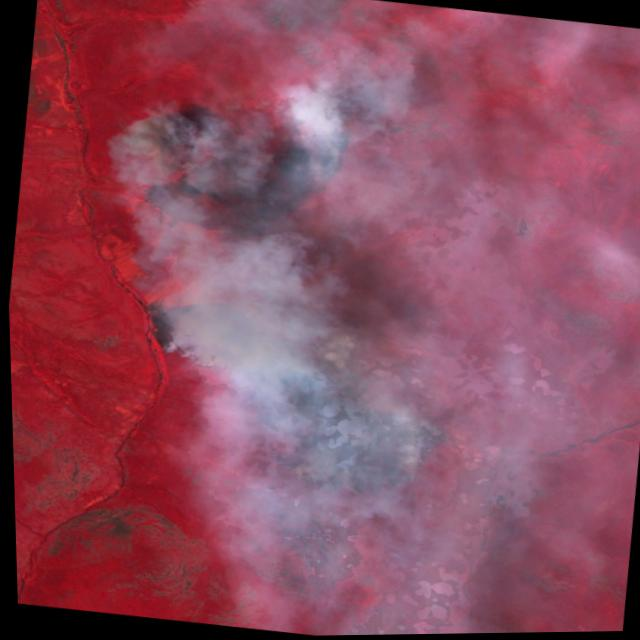fire: (116, 330, 465, 517), (134, 105, 360, 257)
